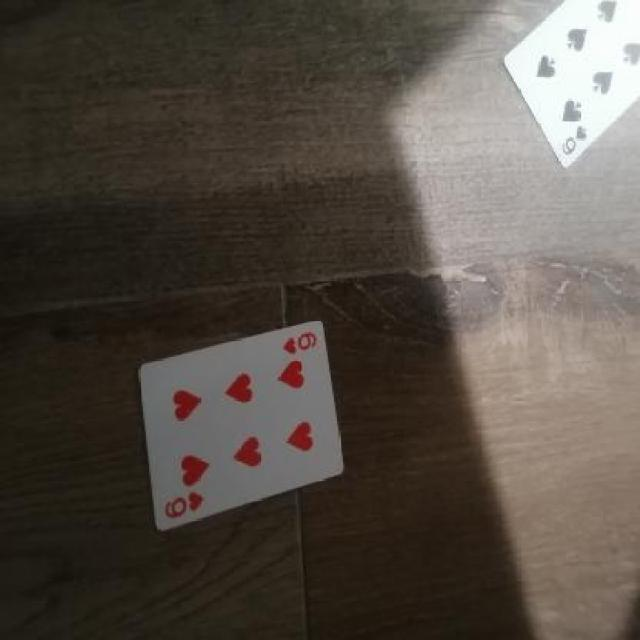6H: (158, 486, 214, 522), (277, 324, 321, 362)
